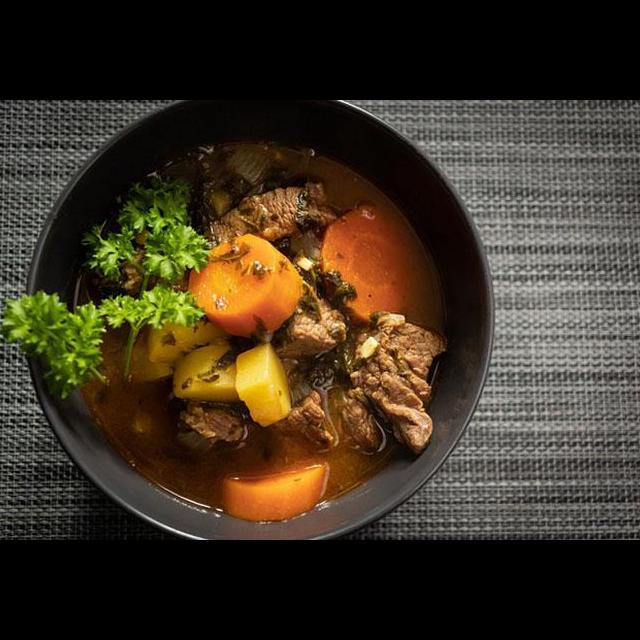thit bo: (334, 307, 451, 461), (189, 175, 343, 265), (266, 385, 390, 458), (264, 269, 352, 365), (171, 395, 255, 457)
